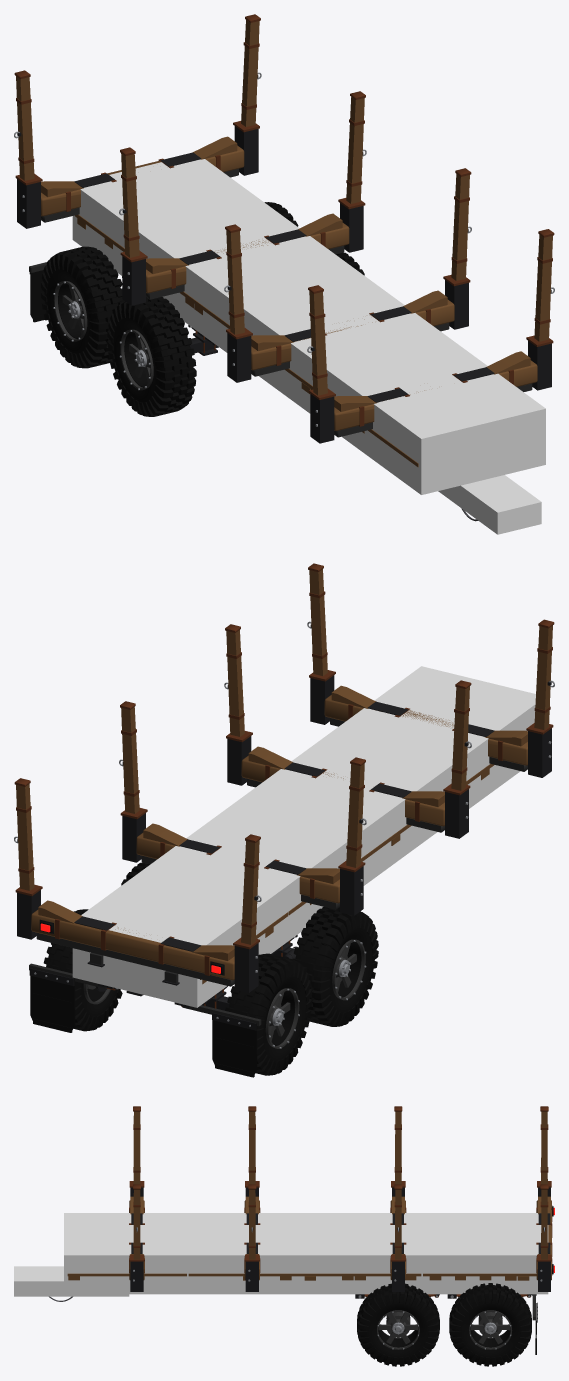
File: LogTrailer.fbx
The picture shows the model from 3 angles, top to bottom: view 1: azimuth 30°, elevation 25°; view 2: azimuth 150°, elevation 25°; view 3: azimuth 270°, elevation 25°; orthographic projection. The views are drawn at different scales.
Visible parts, largest first — view 1: COL_Deck, LogBunks, Wheel_FR, Wheel_RR, COL_Drawbar, Deck, MudFlaps; view 2: COL_Deck, LogBunks, Wheel_FR, Wheel_RR, MudFlaps, Wheel_RL, Deck; view 3: COL_Deck, LogBunks, Wheel_RL, Wheel_FL, Deck, COL_Drawbar.
Part boxes in pixels (x1,y1,x2,y2): COL_Deck: (72,159,545,494); LogBunks: (14,14,554,443); Wheel_FR: (107,297,196,416); Wheel_RR: (41,246,124,368); COL_Drawbar: (438,475,541,534); Deck: (75,214,418,467); MudFlaps: (29,262,46,322); COL_Deck: (72,666,535,1007); LogBunks: (14,563,554,992); Wheel_FR: (292,907,378,1026); Wheel_RR: (225,953,312,1075); MudFlaps: (29,963,261,1077); Wheel_RL: (43,909,122,1031); Deck: (200,764,494,984); COL_Deck: (64,1213,548,1294); LogBunks: (129,1106,552,1291); Wheel_RL: (449,1283,531,1366); Wheel_FL: (357,1283,439,1366); Deck: (67,1273,536,1280); COL_Drawbar: (14,1266,129,1296).
Size of what is drawn, in the model's own units: 2.58 by 2.65 by 7.04.
